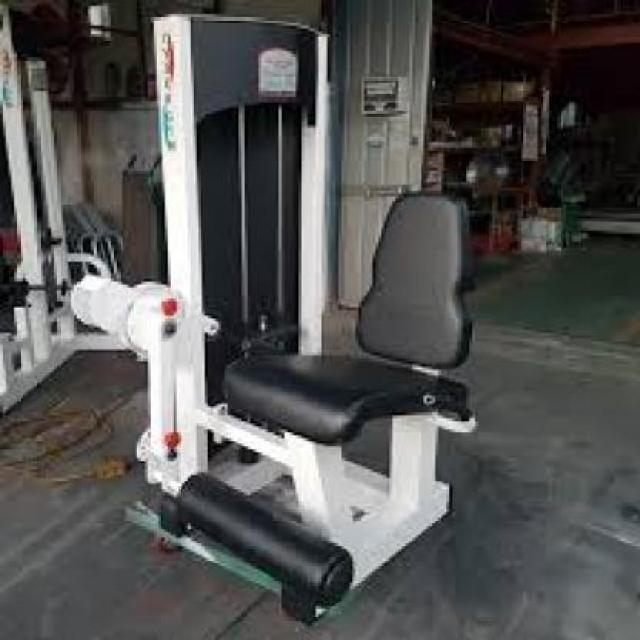leg extension: (61, 0, 503, 635)
